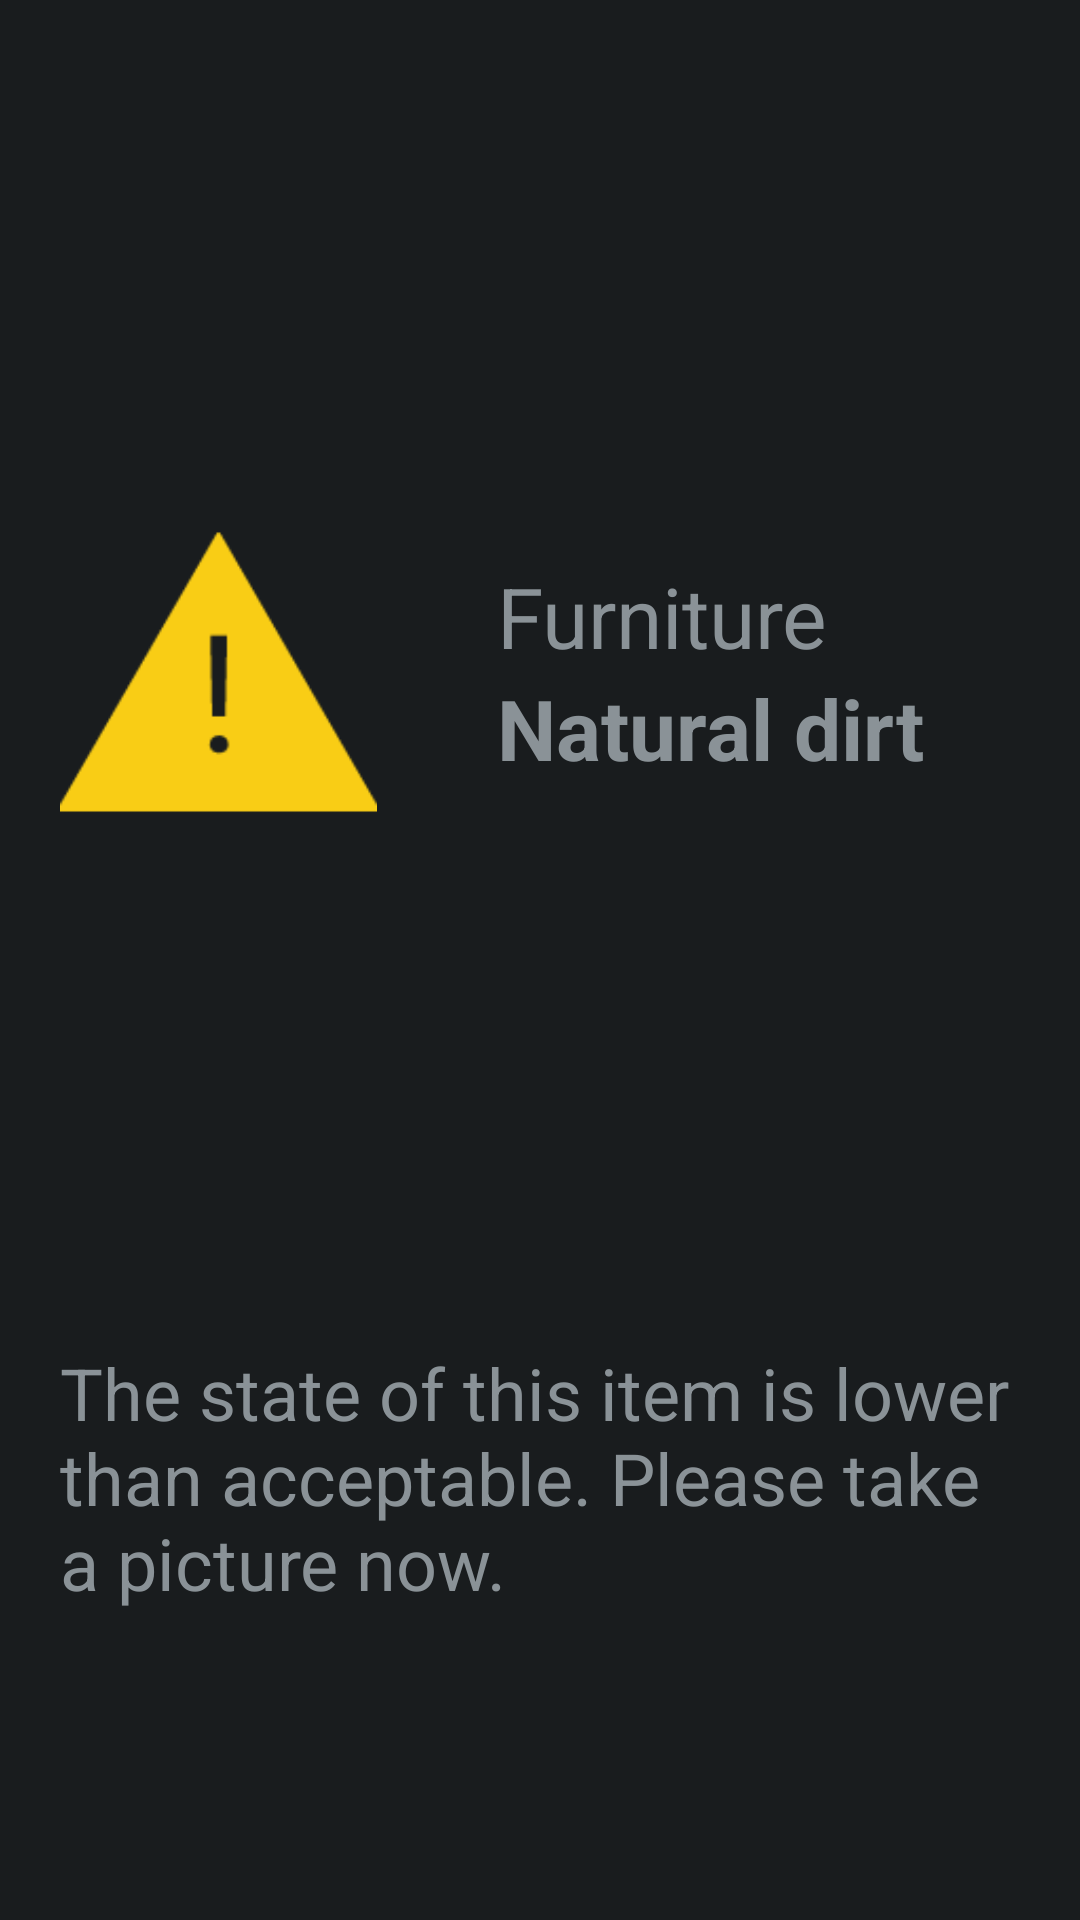

Point at icon controls on the screen. Image size 1080px×1920px, points as point (x, y).
Warning sign: point (218, 672)
